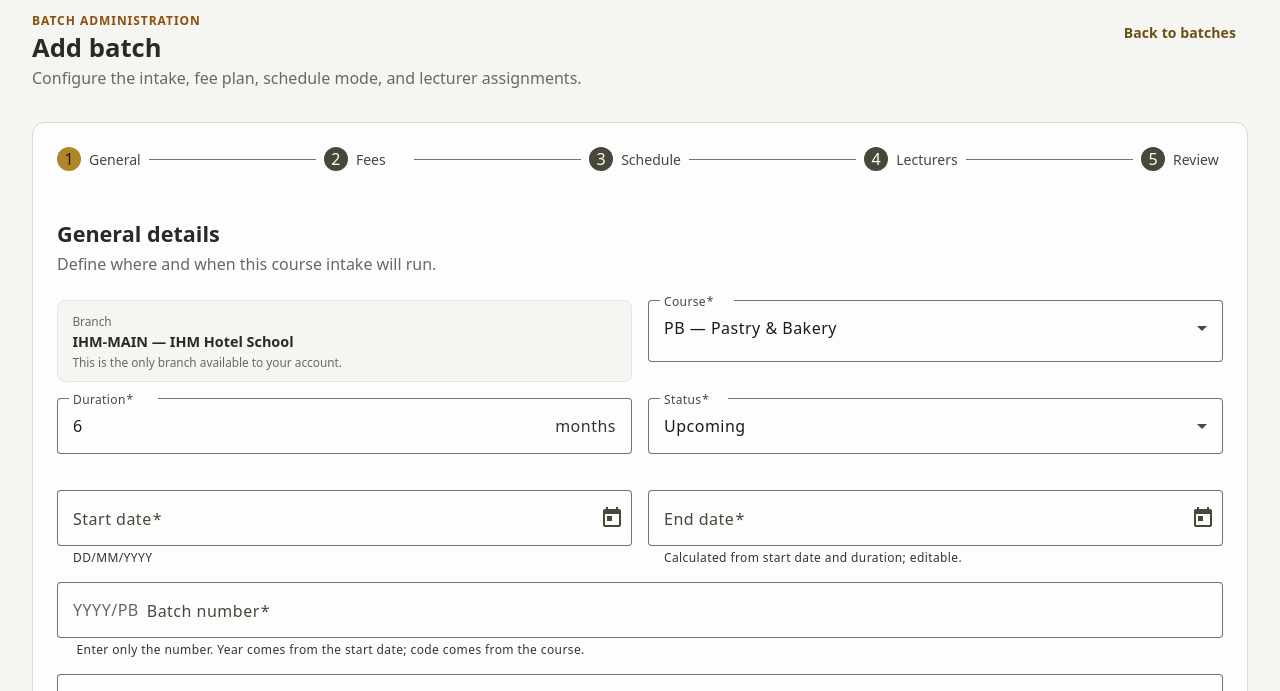
Test case: BatchFormComponent › rejects invalid typed date 31/02/2026
Type "31/02/2026" into the field named "startDate" at (330, 518), box x1=73 y1=506 x2=588 y2=530
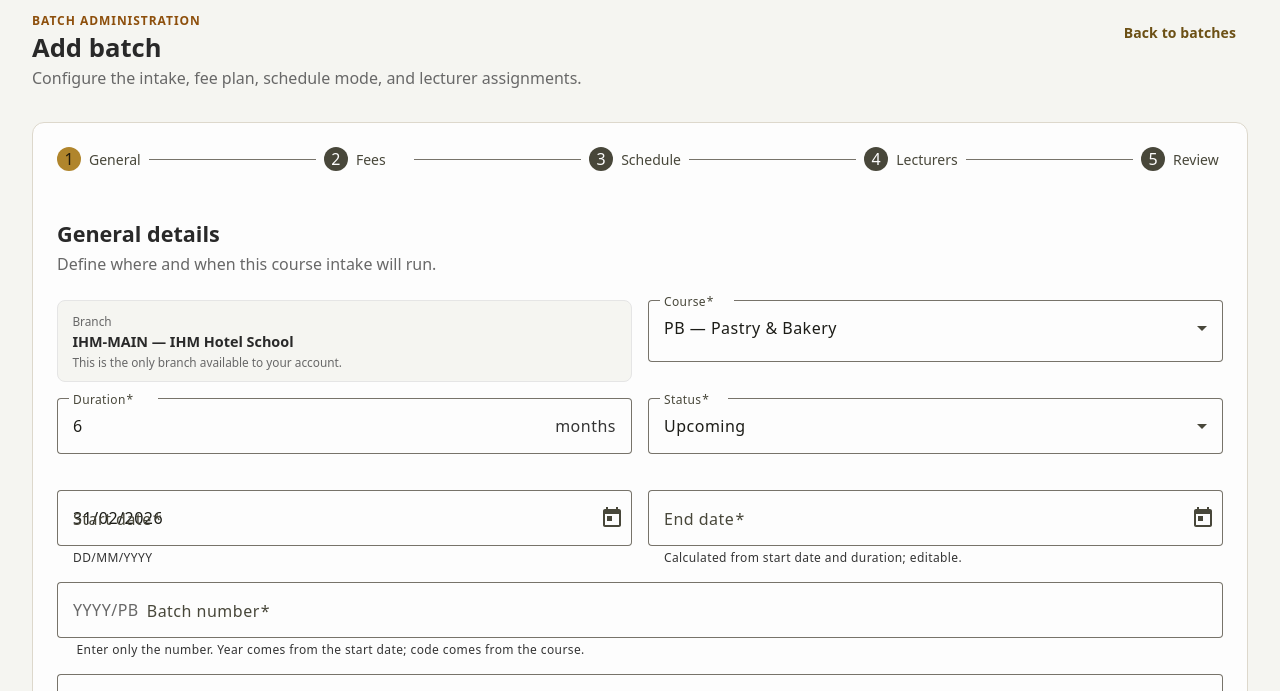
Leave the field named "startDate", box x1=73 y1=506 x2=588 y2=530
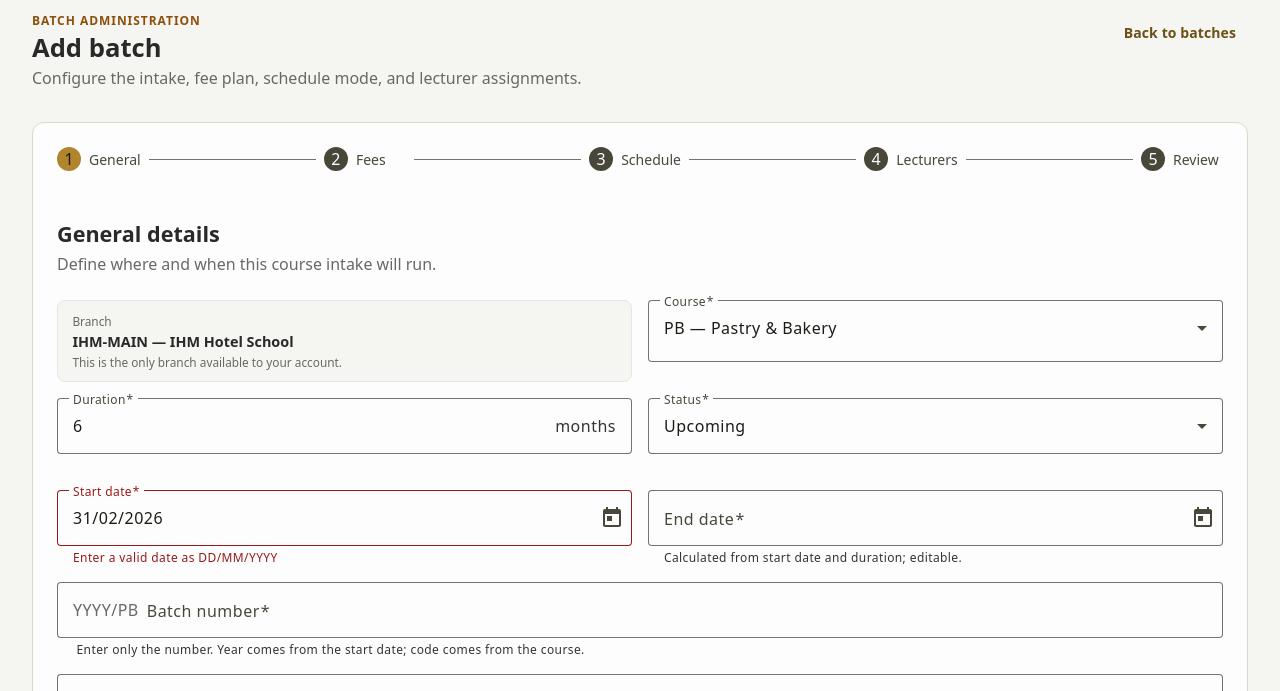
Check: the text "Enter a valid date as DD/MM/YYYY" is shown, box x1=73 y1=549 x2=278 y2=566
